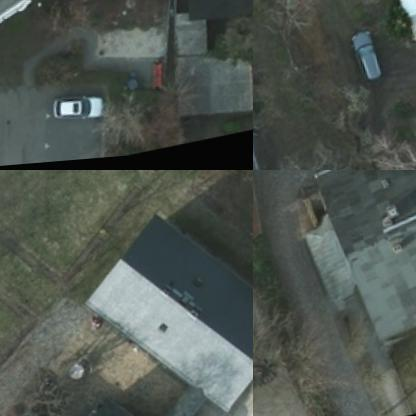car: (341, 31, 386, 90), (45, 92, 103, 128)
